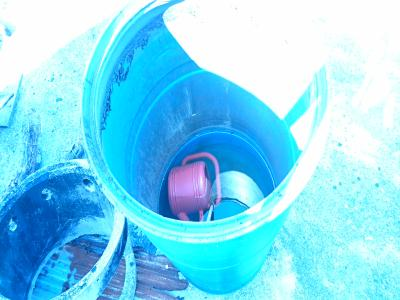bucket: (79, 4, 337, 297)
